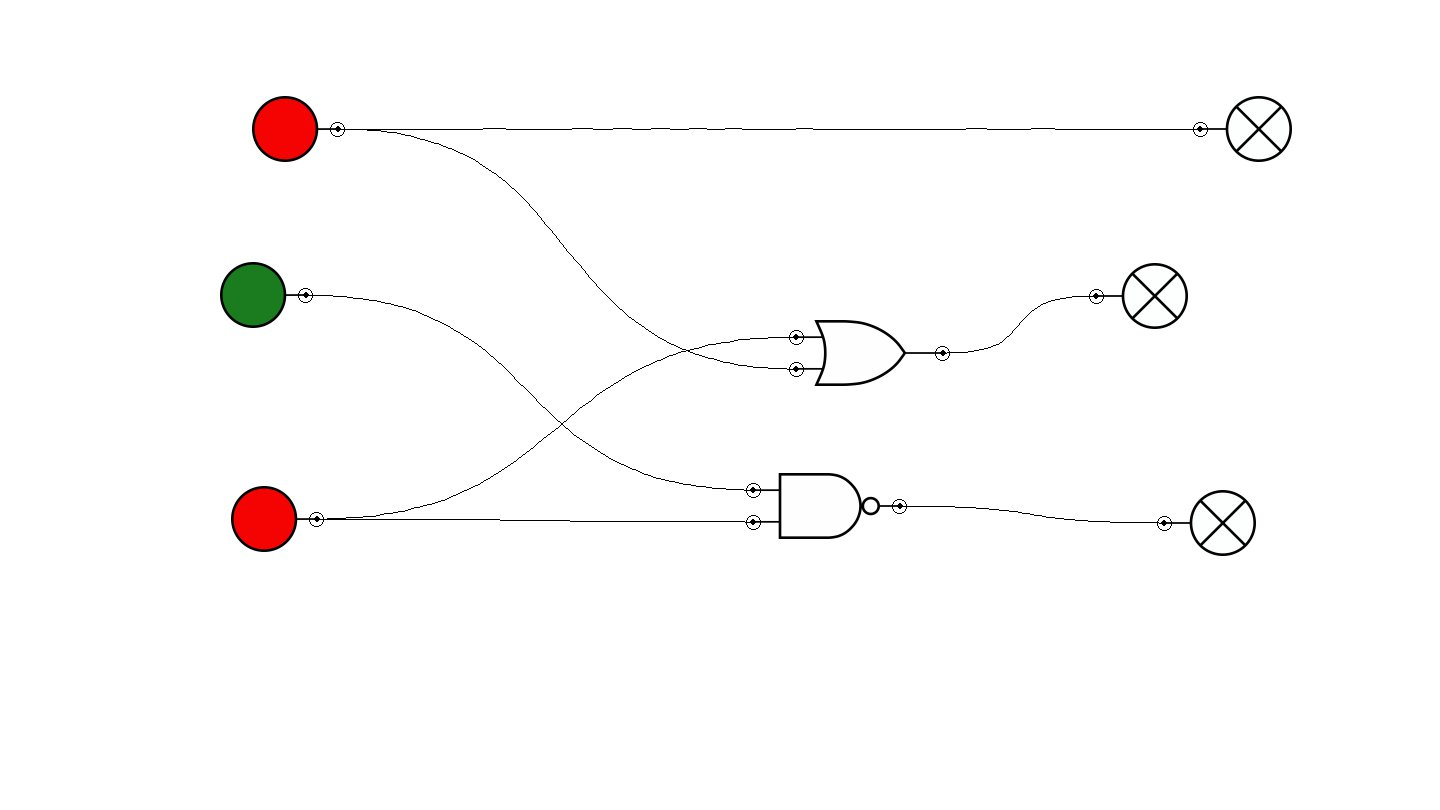bulb: (1193, 96, 1292, 162), (1089, 263, 1188, 329), (1157, 490, 1256, 556)
nand: (746, 473, 907, 539)
or: (789, 320, 950, 386)
switch_False: (252, 96, 345, 162), (231, 486, 324, 552)
switch_True: (220, 262, 313, 328)
